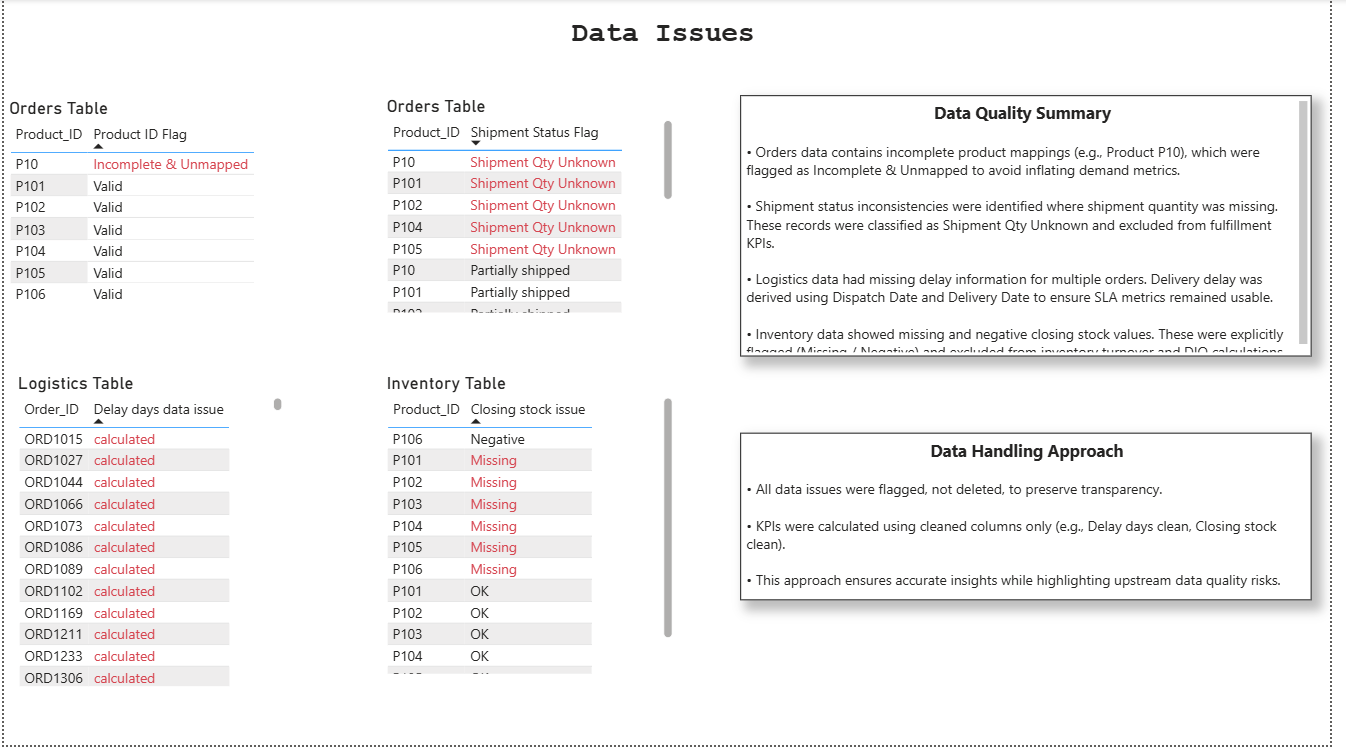

Layout of this report page (visuals, bound fields, positions):
{"tool":"powerbi","page":{"name":"Data Issues","canvas":[1280,720],"ordinal":4},"visuals":[{"type":"tableEx","title":"Orders Table","fields":{"Values":["Orders_Data.Product_ID","Orders_Data.Shipment Status Flag"]},"box":[364.2,92.9,285.8,214.7],"z":0},{"type":"tableEx","title":"Orders Table","fields":{"Values":["Orders_Data.Product_ID","Orders_Data.Product ID Flag"]},"box":[0,95.3,273.8,212.3],"z":1000},{"type":"tableEx","title":"Logistics Table","fields":{"Values":["Logistics_Data.Order_ID","Logistics_Data.Delay days data issue"]},"box":[8.4,360.6,265.3,307.5],"z":2000},{"type":"tableEx","title":"Inventory Table","fields":{"Values":["Inventory_Data.Product_ID","Inventory_Data.Closing stock issue"]},"box":[364.2,360.6,285.8,295.5],"z":3000},{"type":"textbox","box":[48.1,13.1,1175.6,54],"z":4000},{"type":"textbox","box":[710.4,92.9,551.2,252.1],"z":5000},{"type":"textbox","box":[710.4,418.5,551.2,161.6],"z":6000}]}

Visuals, with their boxes in screenshot pixels (x1, y1, x2, y2), scaled from the page's 1280x720 canvas onto the 1346x748 screenshot:
"Orders Table" tableEx: bbox=[383, 97, 684, 320]
"Orders Table" tableEx: bbox=[0, 99, 288, 320]
"Logistics Table" tableEx: bbox=[9, 375, 288, 694]
"Inventory Table" tableEx: bbox=[383, 375, 684, 682]
textbox: bbox=[51, 14, 1287, 70]
textbox: bbox=[747, 97, 1327, 358]
textbox: bbox=[747, 435, 1327, 603]
